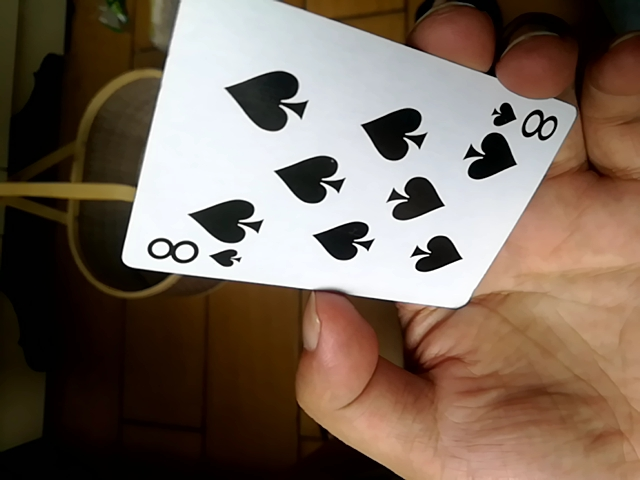ht 8: (123, 2, 582, 319)
